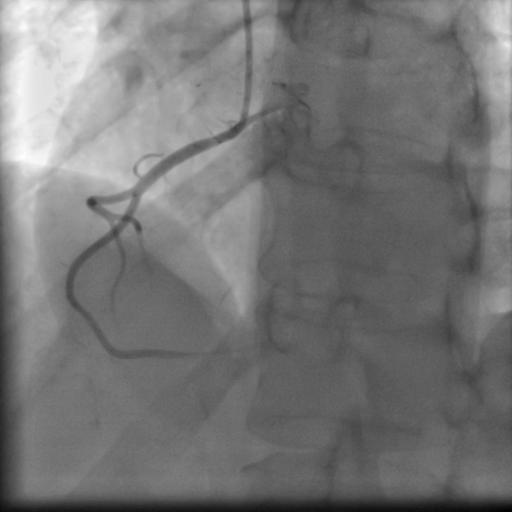Stenosis: (72, 295, 105, 335)
